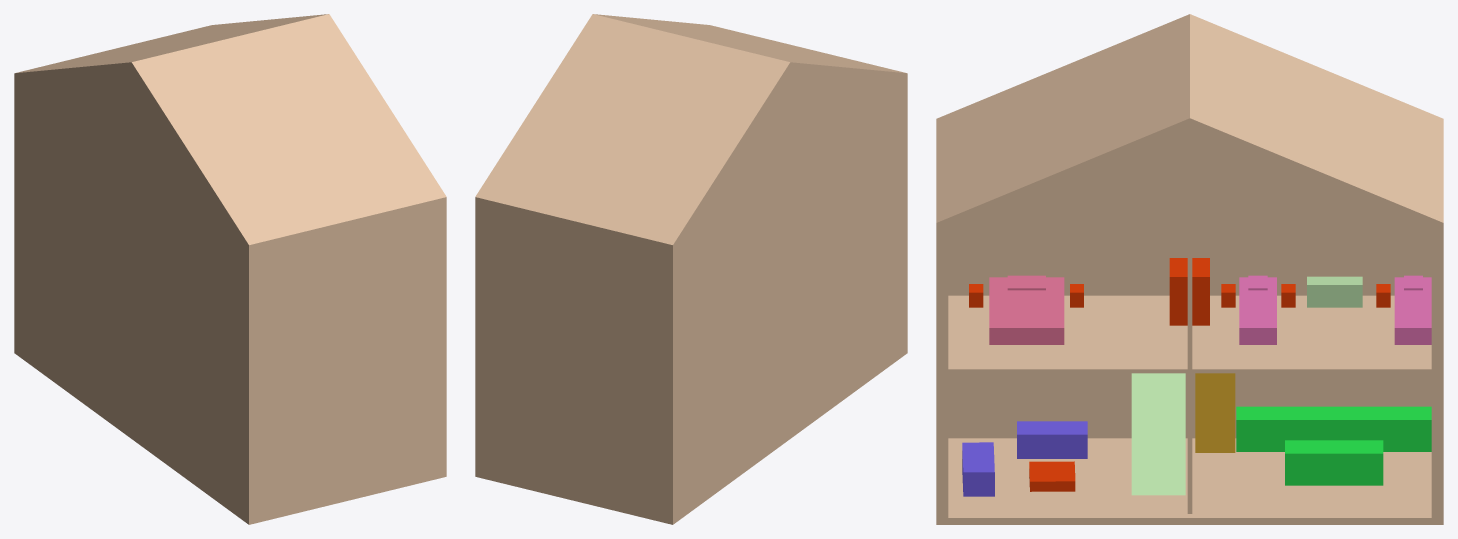
File: dollhouse.fbx
3 renders of one model, left to right at view 1: azimuth 30°, elevation 25°; view 2: azimuth 150°, elevation 25°; view 3: azimuth 270°, elevation 25°, orthographic. The views are drawn at different scales.
Parts seen in each view (by area): view 1: dollhouse; view 2: dollhouse; view 3: dollhouse, kitchen cabinets, stairs, small beds, big bed, couches, fridge, dressers, thing in kids room, nightstands, coffee table.
Part boxes in pixels (left/top/right/bottom): dollhouse: left=14, top=14, right=446, bottom=524; dollhouse: left=475, top=14, right=907, bottom=524; dollhouse: left=936, top=14, right=1443, bottom=524; kitchen cabinets: left=1236, top=406, right=1431, bottom=485; stairs: left=1131, top=373, right=1185, bottom=495; small beds: left=1239, top=275, right=1431, bottom=344; big bed: left=989, top=275, right=1064, bottom=344; couches: left=962, top=421, right=1087, bottom=496; fridge: left=1195, top=373, right=1235, bottom=452; dressers: left=1169, top=258, right=1209, bottom=325; thing in kids room: left=1307, top=276, right=1362, bottom=307; nightstands: left=969, top=284, right=1390, bottom=307; coffee table: left=1029, top=461, right=1075, bottom=491.
Size of the model in its own units: 148 by 269 by 304.
